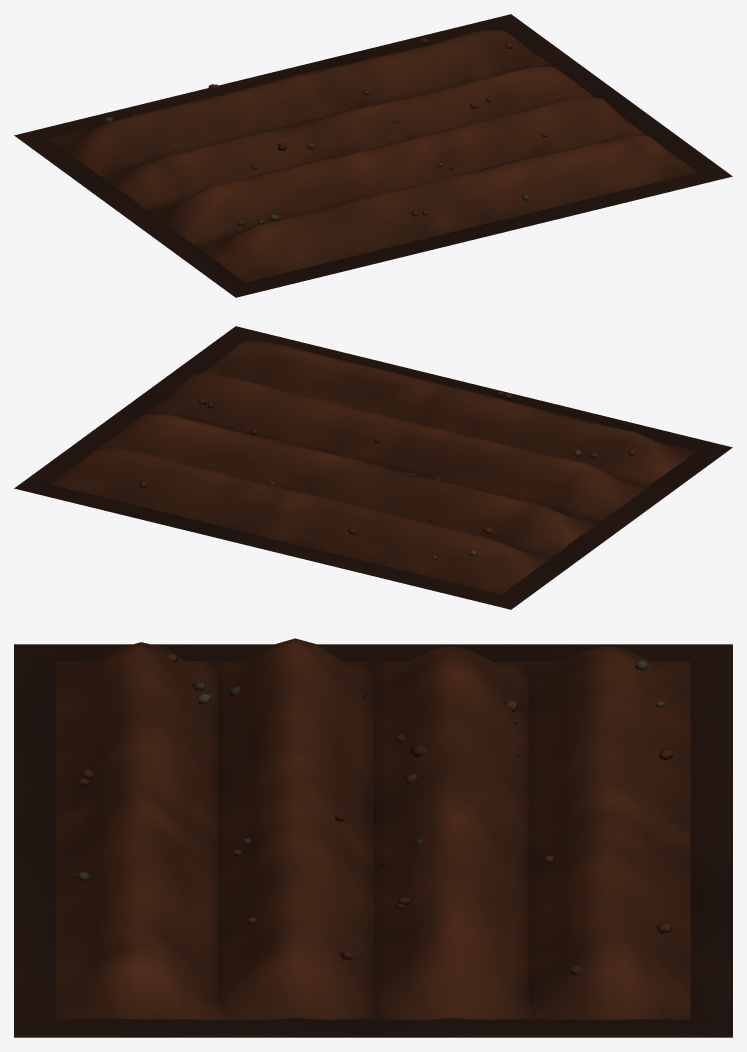
The model's file is fm_bed.glb.
3 renders of one model, top to bottom at view 1: azimuth 30°, elevation 25°; view 2: azimuth 150°, elevation 25°; view 3: azimuth 270°, elevation 25°, orthographic. The views are drawn at different scales.
Parts seen in each view (by area): view 1: fm_bed; view 2: fm_bed; view 3: fm_bed.
Boxes of the visible parts, box(x1,y1,x2,y2) form: fm_bed: box(14, 14, 732, 297); fm_bed: box(14, 326, 732, 609); fm_bed: box(14, 638, 732, 1037).
Size of the model in its own units: 4.4 by 0.2688 by 3.4.
